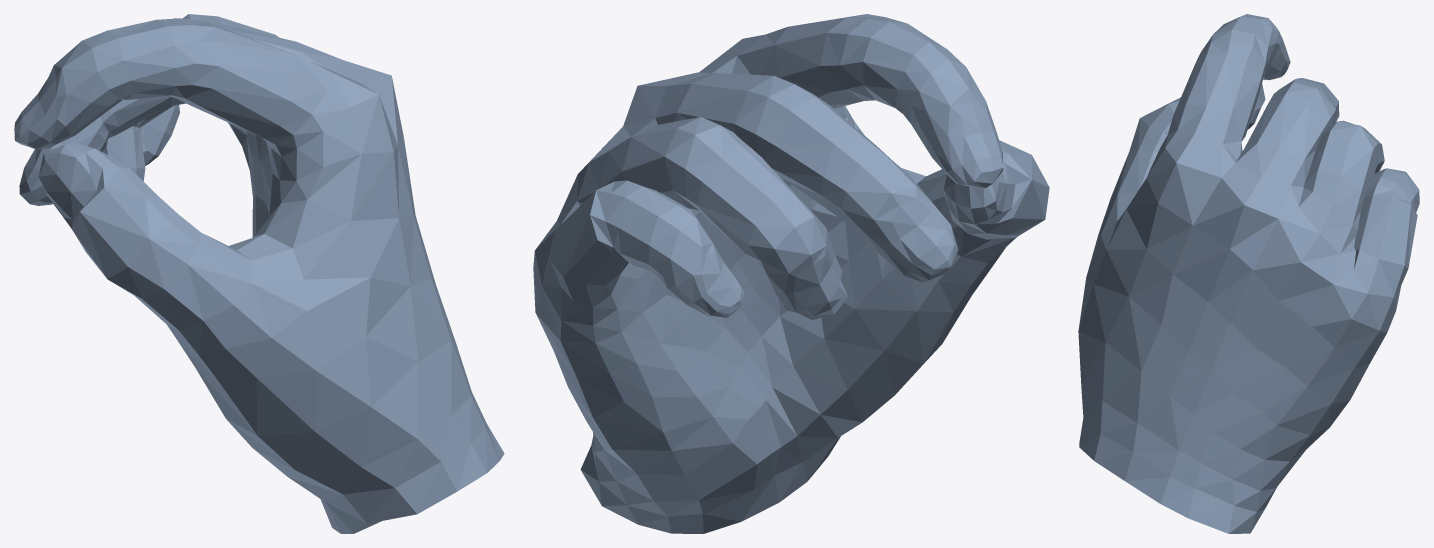
3 renders of one model, left to right at view 1: azimuth 30°, elevation 25°; view 2: azimuth 150°, elevation 25°; view 3: azimuth 270°, elevation 25°, orthographic. The views are drawn at different scales.
Bounding box in the file's own units: 0.1151 × 0.1354 × 0.1011.
